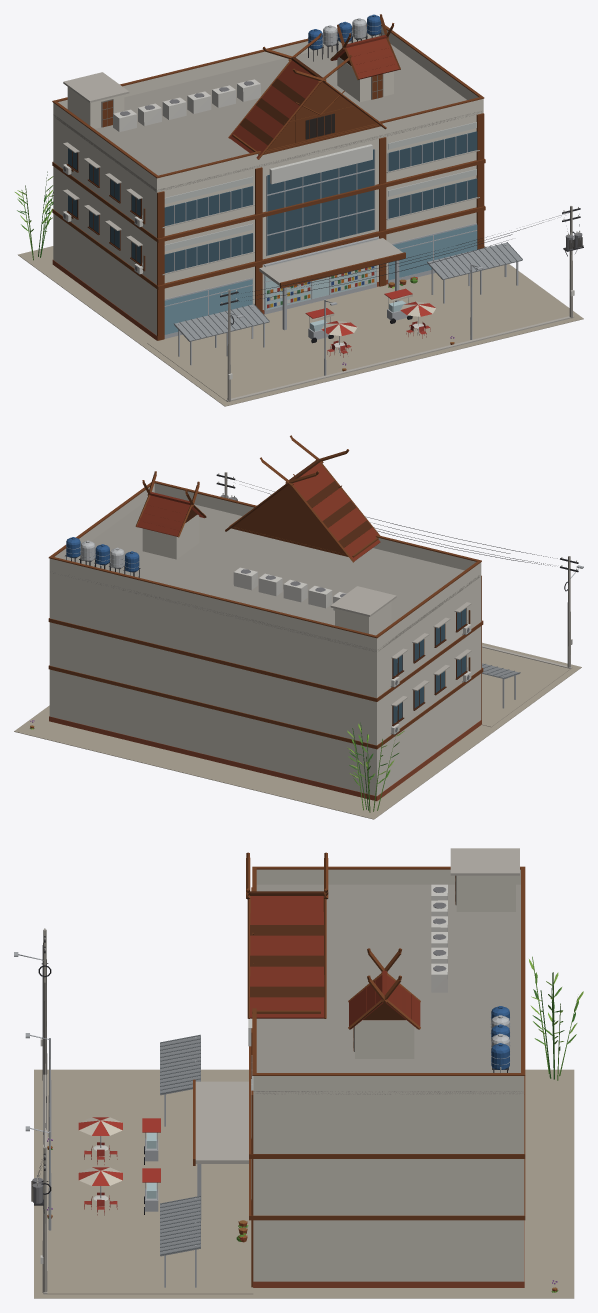
The model's file is shop_5.glb.
3 views of the same model, one above another, from view 1: azimuth 30°, elevation 25°; view 2: azimuth 150°, elevation 25°; view 3: azimuth 270°, elevation 25° (orthographic). The views are drawn at different scales.
Visible parts, largest first — view 1: body, windows; view 2: body, windows; view 3: body.
Boxes of the visible parts, bbox=[...] form: body: bbox=[15, 14, 583, 406]; windows: bbox=[68, 113, 477, 273]; body: bbox=[14, 435, 583, 819]; windows: bbox=[393, 608, 466, 723]; body: bbox=[14, 848, 583, 1298].
Size of the model in its own units: 33.14 by 20.82 by 33.65.
